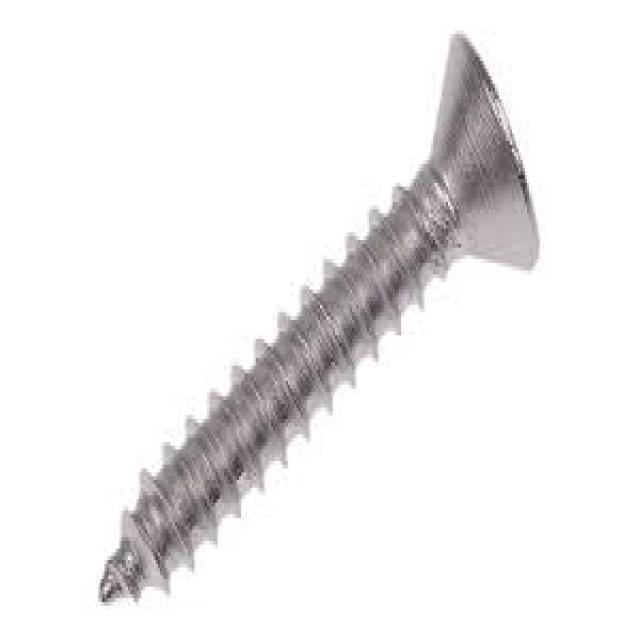Screw: (98, 34, 538, 598)
